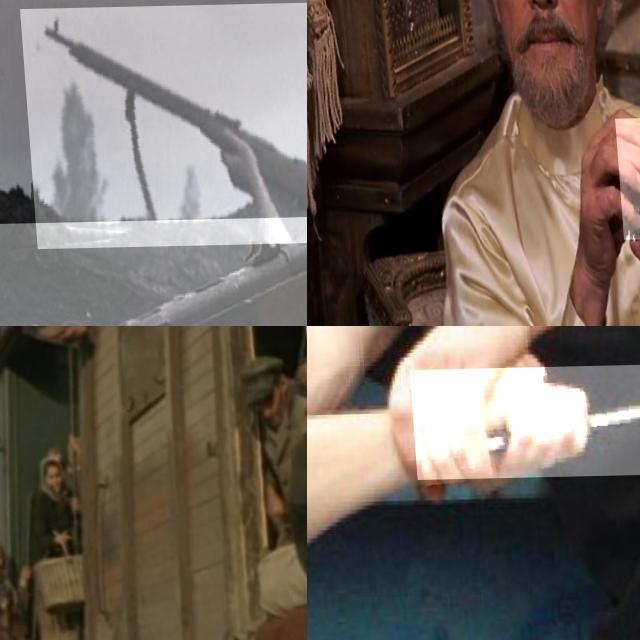-: (405, 365, 640, 480)
gun-knife-thesis - v11 Yolov5 augmented: (18, 3, 307, 249), (0, 216, 307, 326), (609, 118, 640, 241)
